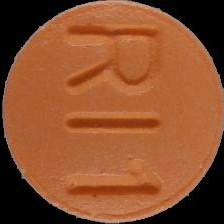61786-256: (0, 0, 224, 224)
